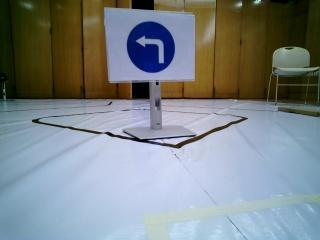left: (109, 13, 194, 74)
